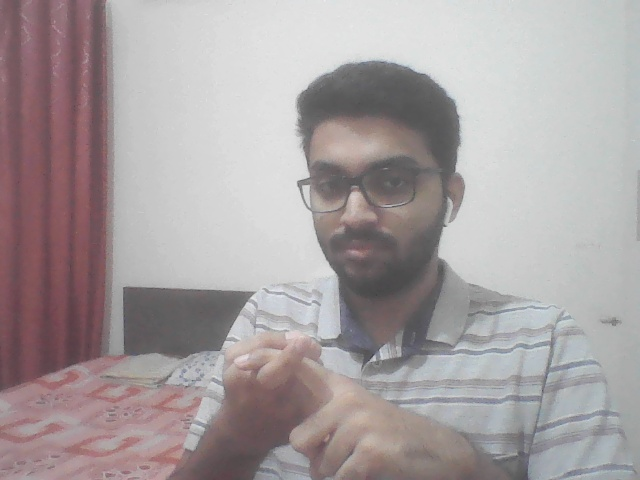friend: (164, 315, 498, 480)
